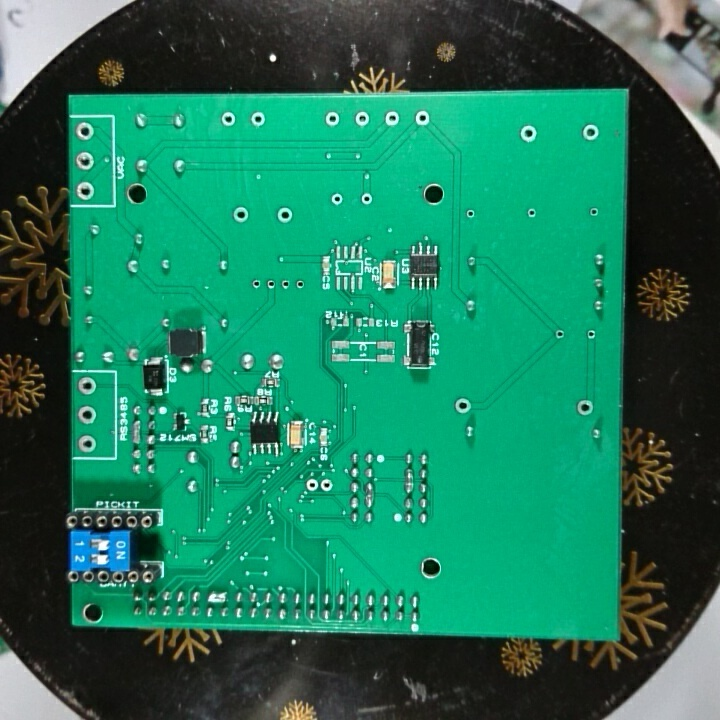F: (579, 121, 603, 144), (73, 178, 97, 201), (75, 403, 98, 426), (231, 204, 253, 228), (74, 149, 96, 173), (517, 123, 539, 146), (77, 375, 99, 398), (74, 119, 95, 142), (275, 203, 295, 226), (77, 432, 97, 455), (352, 109, 371, 132), (383, 107, 401, 131), (452, 395, 472, 416), (574, 398, 595, 418), (322, 108, 342, 129), (357, 189, 376, 209), (327, 190, 346, 209), (218, 109, 237, 128), (411, 109, 431, 127), (319, 474, 335, 495), (249, 108, 266, 127), (262, 275, 278, 295), (303, 477, 319, 497), (523, 206, 539, 223), (292, 275, 308, 292), (553, 326, 567, 343), (249, 275, 262, 293), (462, 207, 477, 222), (585, 326, 598, 343), (279, 276, 291, 294), (588, 204, 599, 221)
P: (362, 480, 378, 509), (402, 466, 417, 494), (205, 589, 228, 606), (131, 418, 142, 446)
